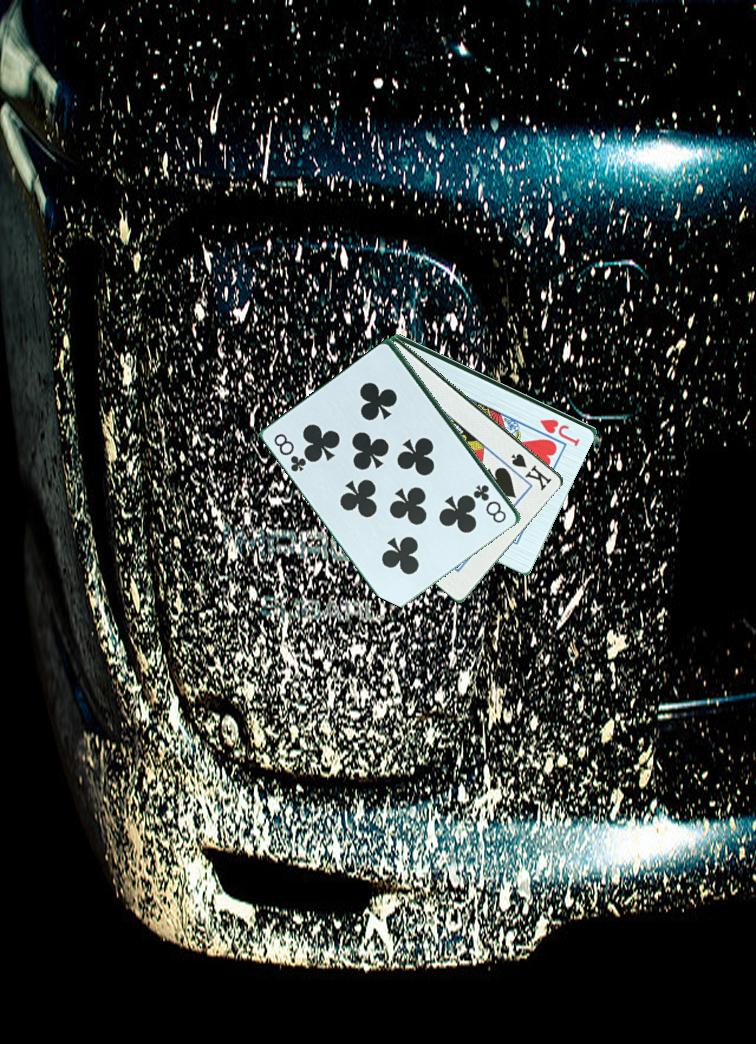8c: (270, 430, 310, 476), (471, 480, 510, 526)
jh: (536, 415, 583, 447)
ks: (508, 449, 555, 493)
